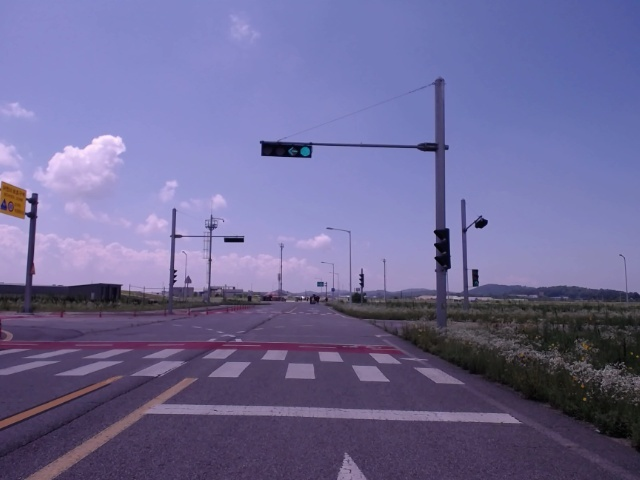all_green_4: (255, 138, 313, 160)
